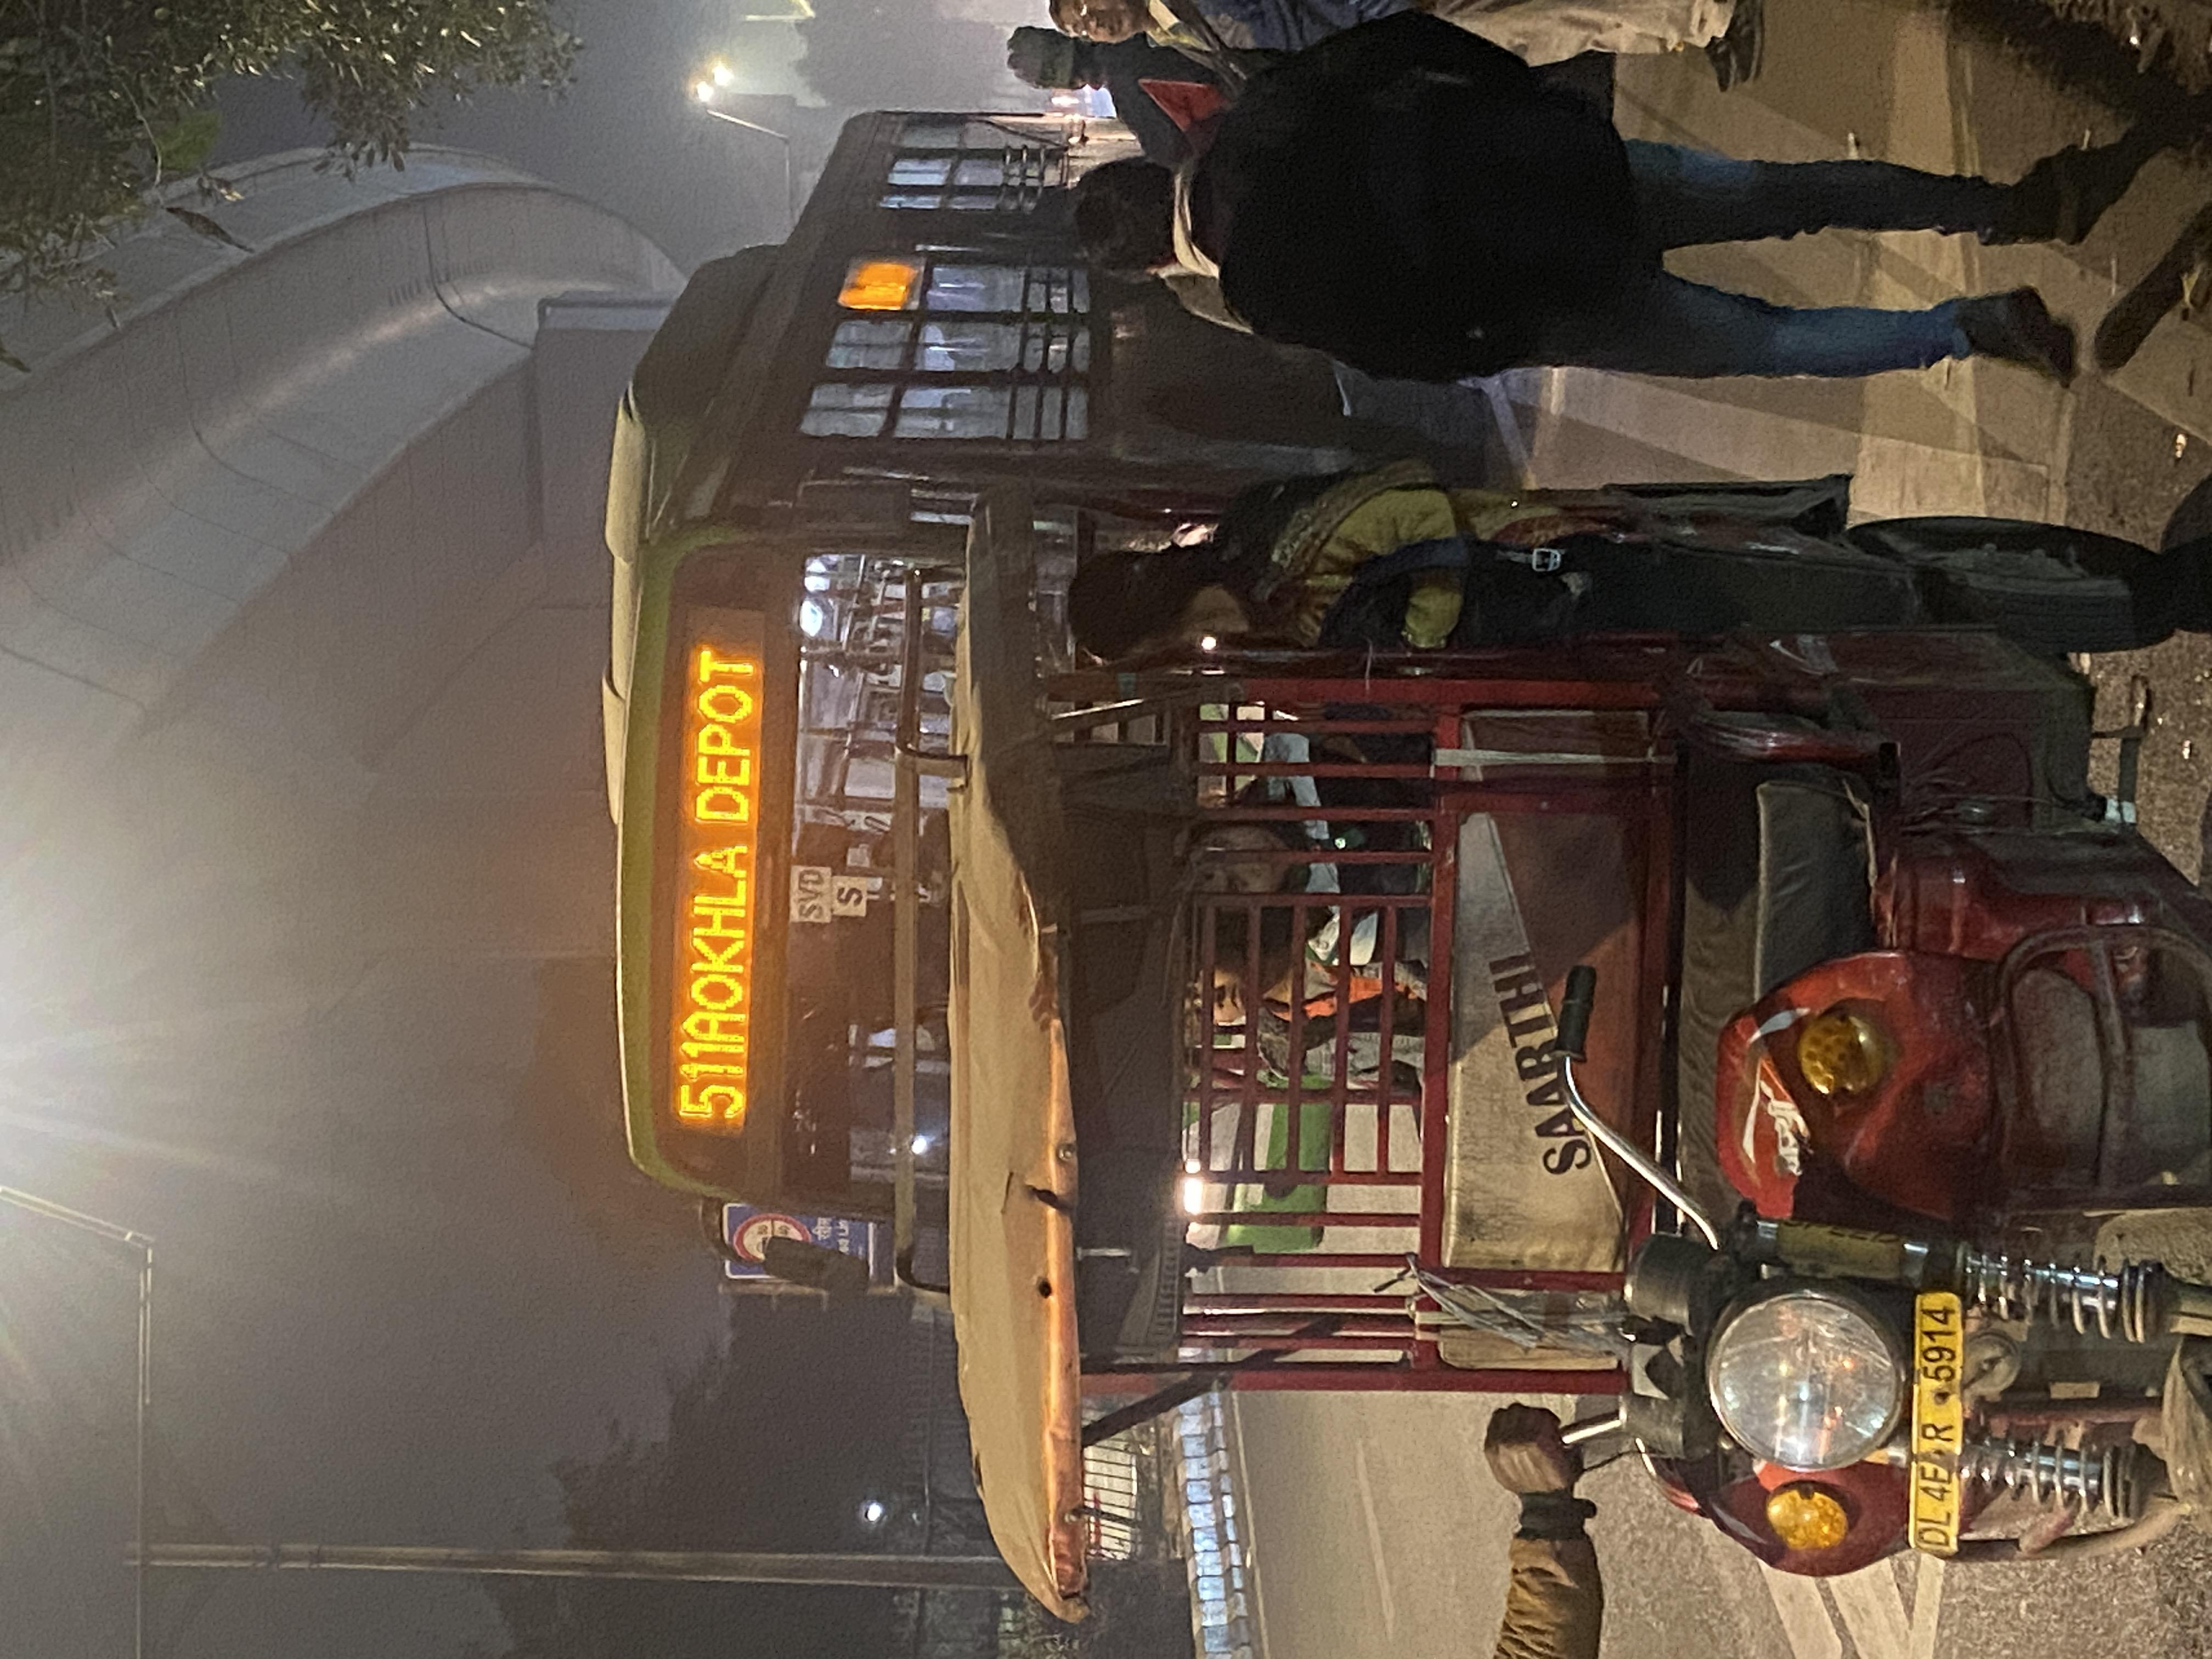Bus: (564, 411, 1317, 1371)
Display Board: (631, 565, 796, 1208), (812, 225, 932, 335)
